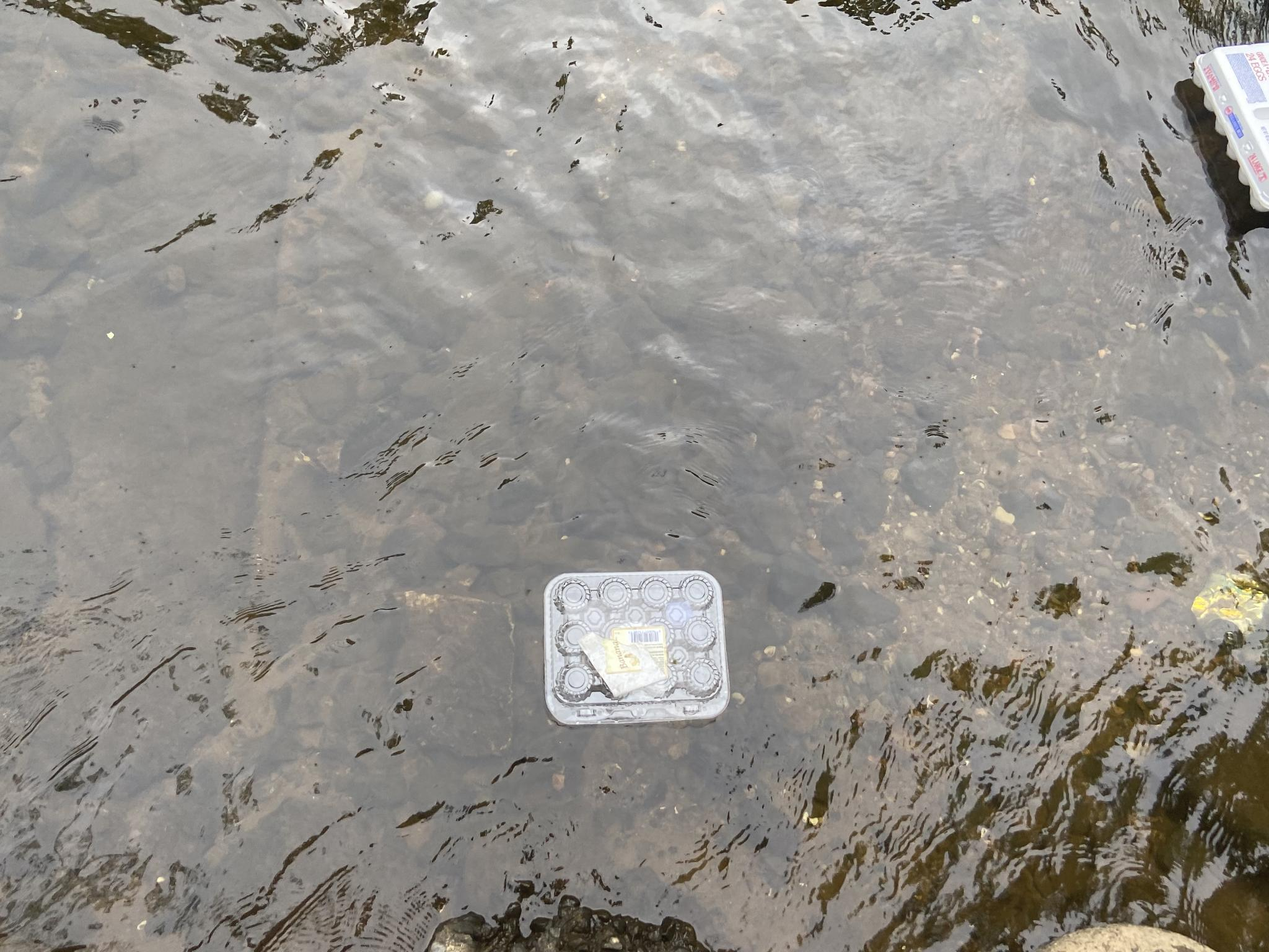metal: (0, 291, 90, 400)
plastic: (520, 212, 737, 392), (0, 727, 90, 924)
